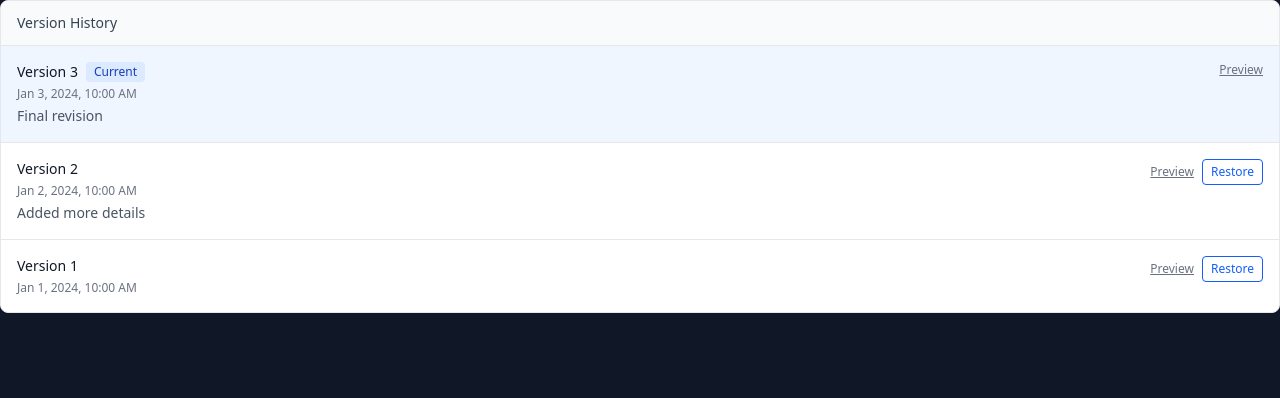
VersionHistory › TC-DOC-015: Version preview functionality › should allow collapsing expanded version
Click the 2nd button "Preview": (1172, 172) [1150,164,1194,180]
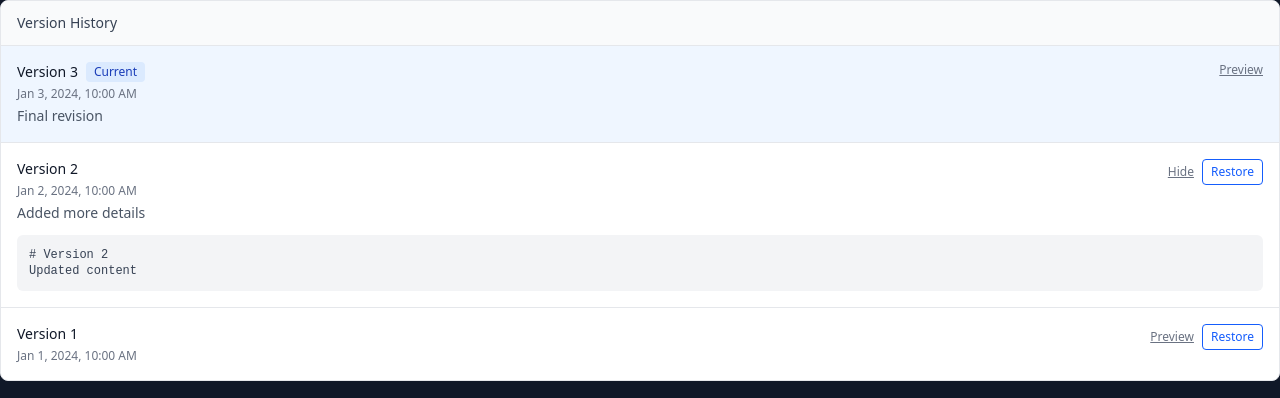
Check: the text "# Version 2 Updated content" is shown, box [29,248,137,278]
Click the button "Hide": (1181, 172) [1168,164,1194,180]
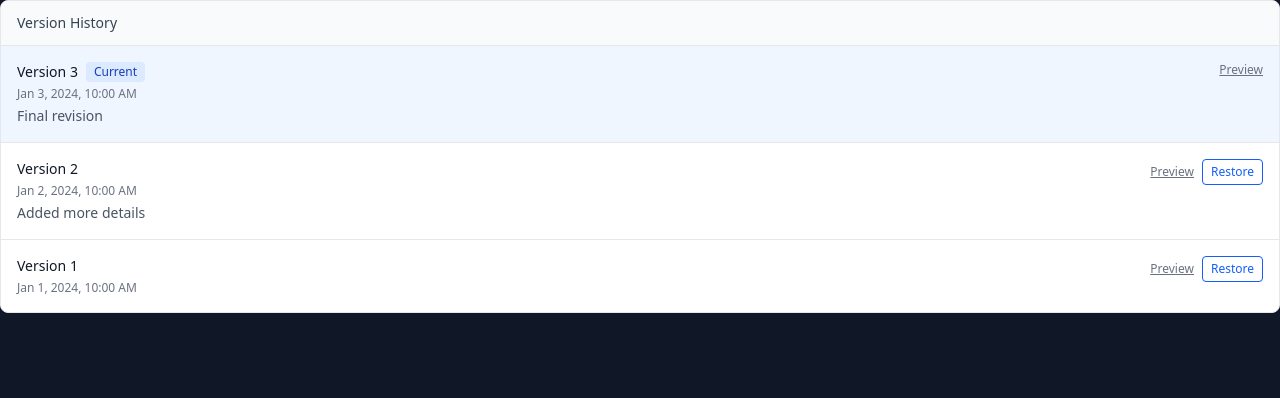
Check: the text "Updated content" is gone
